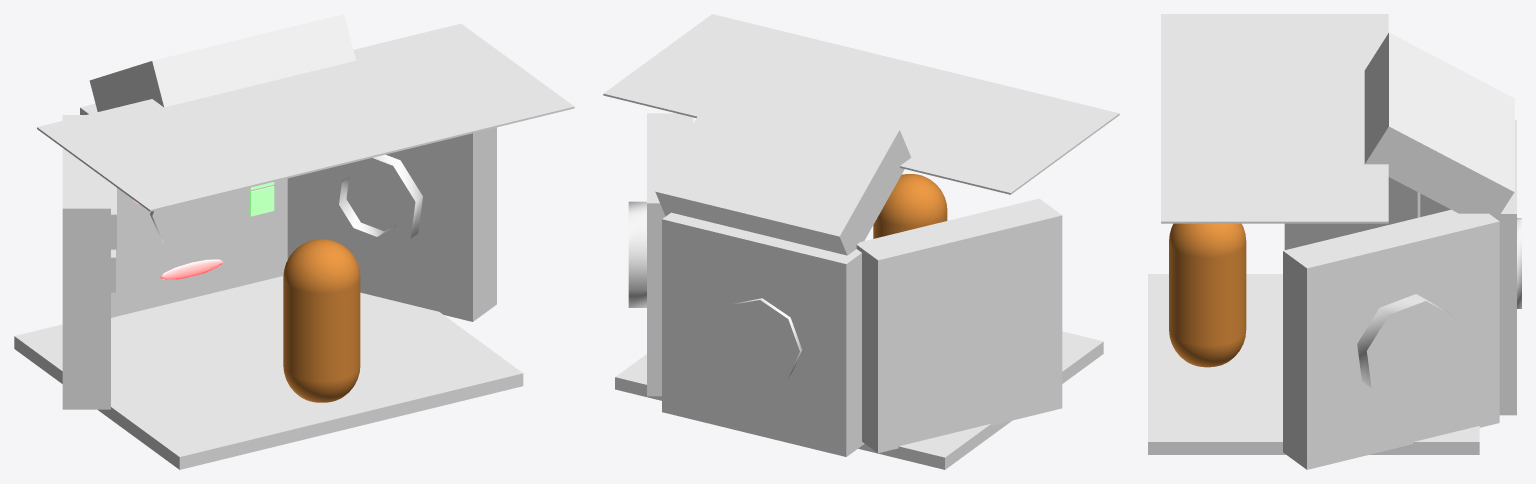
Rendered from main.gltf.
The picture shows the model from 3 angles, left to right: view 1: azimuth 30°, elevation 25°; view 2: azimuth 150°, elevation 25°; view 3: azimuth 270°, elevation 25°; orthographic projection. The views are drawn at different scales.
Parts seen in each view (by area): view 1: ceiling2, floor2, launchTube2, radar2, missileAssembly2, fourthPanel2, ProtoController; view 2: missileAssembly2, radar2, ceiling2, fourthPanel2, launchTube2, floor2, ProtoController; view 3: launchTube2, ceiling2, fourthPanel2, floor2, ProtoController, radar2, missileAssembly2.
Part boxes in pixels (x1,y1,x2,y2): ceiling2: [37, 23, 574, 211]; floor2: [14, 276, 523, 469]; launchTube2: [287, 127, 496, 321]; radar2: [80, 103, 287, 317]; missileAssembly2: [62, 115, 116, 409]; fourthPanel2: [89, 14, 355, 111]; ProtoController: [283, 239, 360, 402]; missileAssembly2: [856, 198, 1062, 453]; radar2: [662, 212, 864, 456]; ceiling2: [603, 14, 1119, 194]; fourthPanel2: [655, 85, 910, 255]; launchTube2: [628, 113, 693, 396]; floor2: [615, 331, 1103, 469]; ProtoController: [873, 174, 947, 238]; launchTube2: [1283, 209, 1499, 469]; ceiling2: [1161, 14, 1388, 223]; fourthPanel2: [1364, 32, 1514, 218]; floor2: [1148, 274, 1479, 454]; ProtoController: [1169, 223, 1246, 367]; radar2: [1497, 120, 1521, 415]; missileAssembly2: [1284, 177, 1450, 249].
Size of the model in its own units: 5.25 by 3.42 by 3.87.
